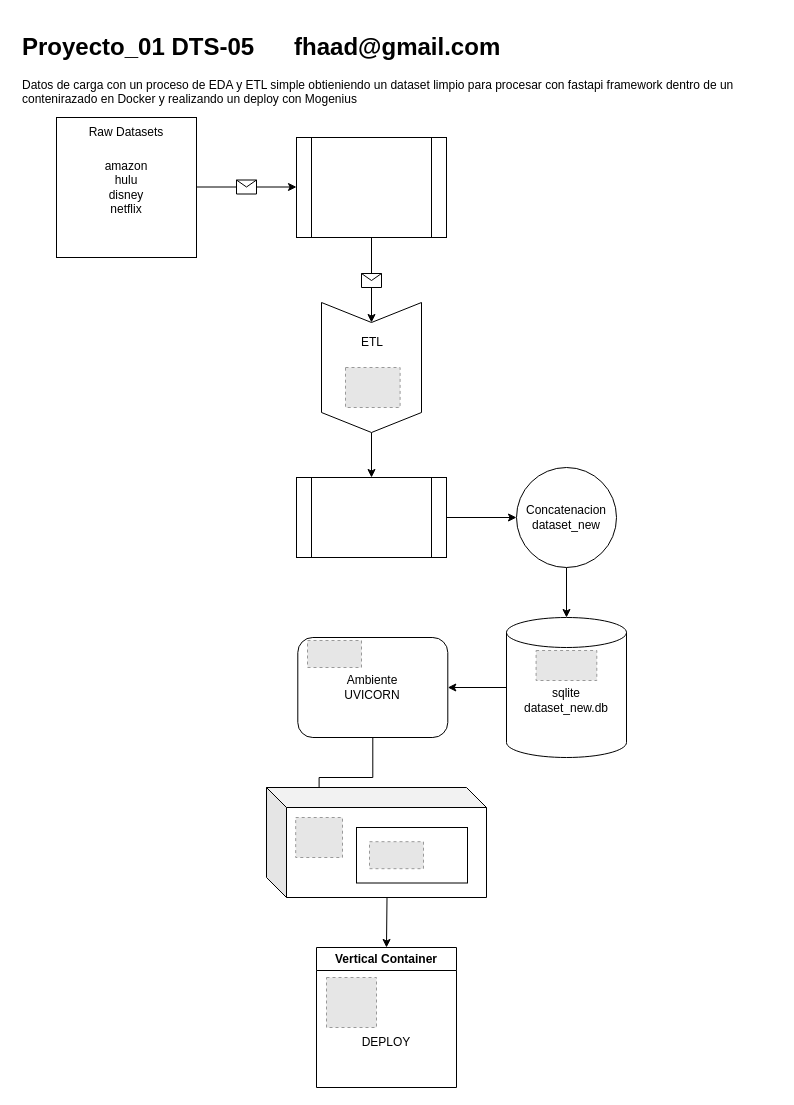
Some shapes in this 794 by 1105 pixel diagram are drawn without their labels. Grey dashed boxes stand in for pictures. The shapes that lost their labels are listed below. From the top down, each one's centre as x and y in pixels, then its label:
point 371,187: EDA REPORT amazon_eda hulu_eda disney_eda netflix_eda
point 371,517: amazon_etl hulu_etl disney_etl netflix_etl
